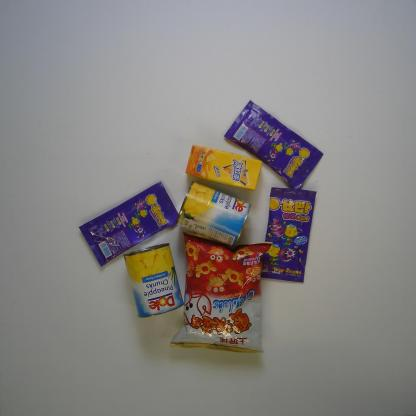Candy: (76, 180, 184, 268), (223, 100, 325, 190), (256, 185, 317, 284)
Canned Food: (176, 180, 254, 248), (122, 243, 186, 318)
Drink: (184, 143, 264, 191)
Puffed Food: (166, 231, 274, 356)
